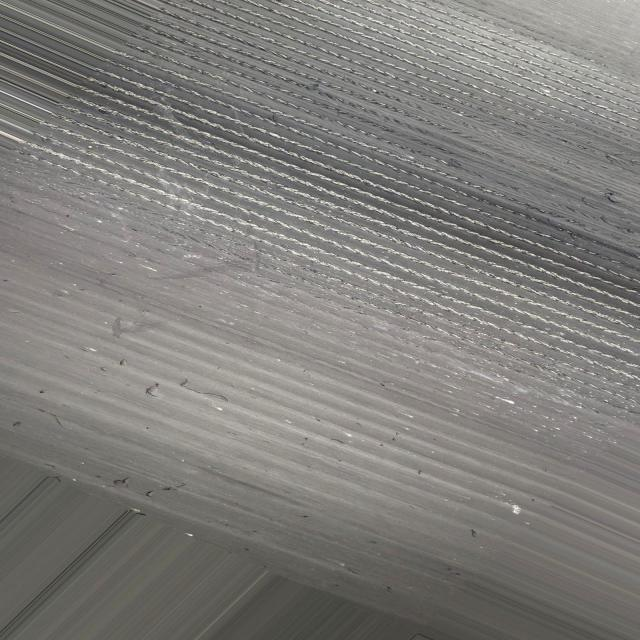Wear: (1, 0, 640, 404)
